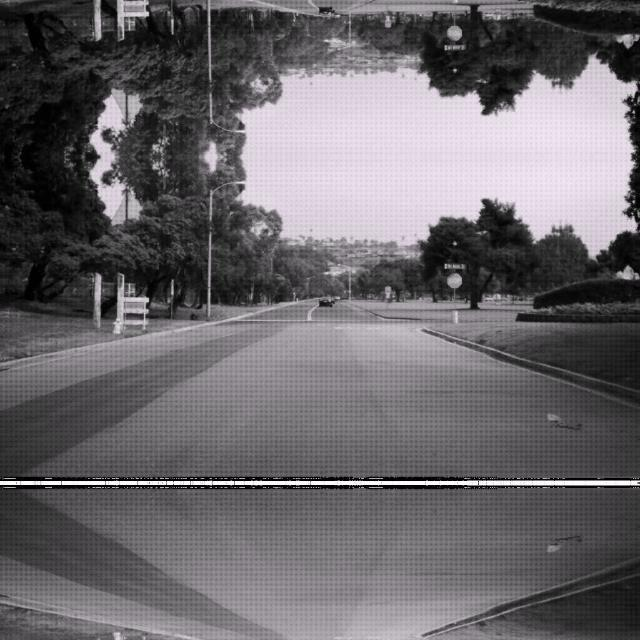stop: (446, 272, 462, 288), (446, 24, 462, 40)
